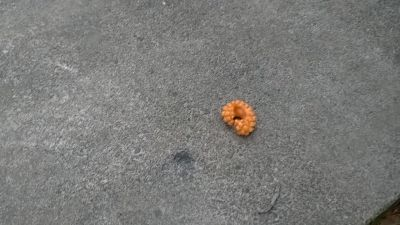eggs: (221, 98, 260, 136)
